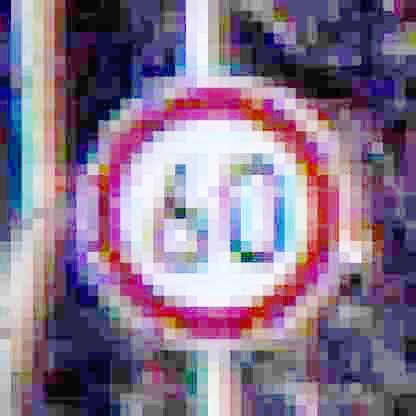Speed Limit -60-: (78, 81, 353, 350)
